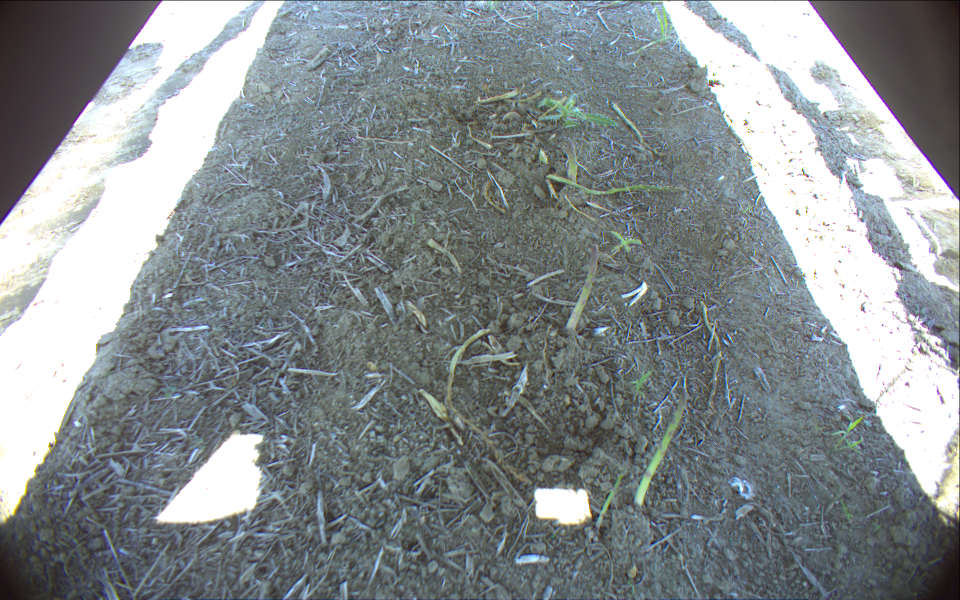aspa: (632, 387, 688, 508), (563, 244, 600, 337)
